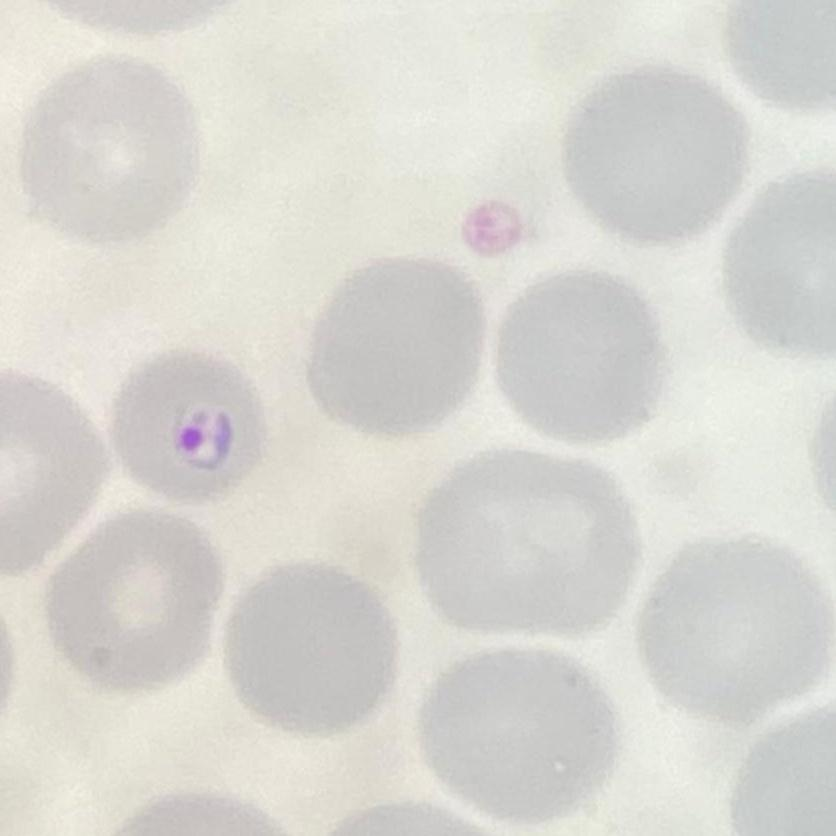Infected: (108, 345, 262, 496)
Uninfected: (413, 449, 635, 636), (637, 537, 836, 725), (423, 644, 618, 820), (23, 52, 200, 243), (560, 62, 752, 237), (45, 505, 223, 692), (307, 252, 484, 437), (223, 562, 399, 734), (497, 274, 667, 442), (0, 365, 112, 584), (728, 165, 836, 364)
